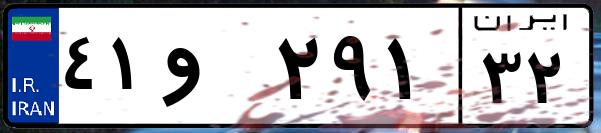1: (385, 28, 445, 110), (110, 28, 158, 98)
2: (270, 28, 330, 110), (525, 38, 570, 115)
3: (475, 38, 525, 113)
4: (57, 26, 110, 100)
9: (330, 28, 385, 110)
و: (158, 20, 270, 120)
